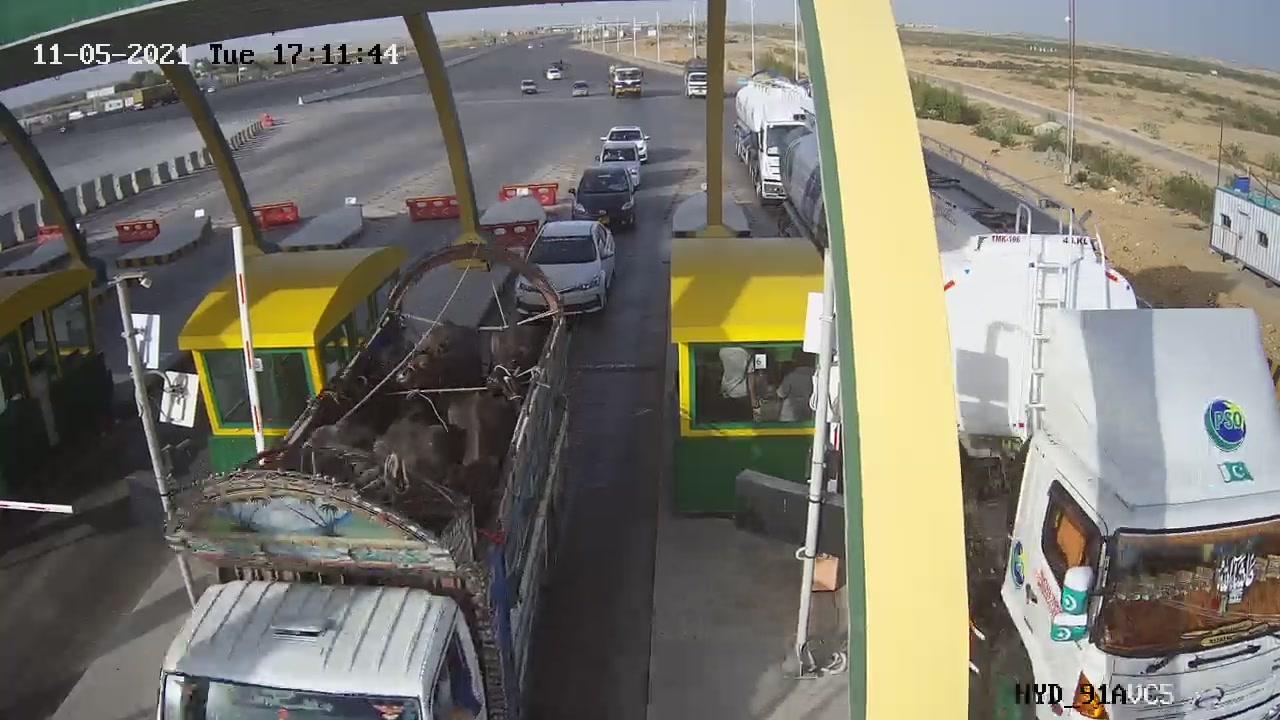F1: (503, 209, 627, 324)
